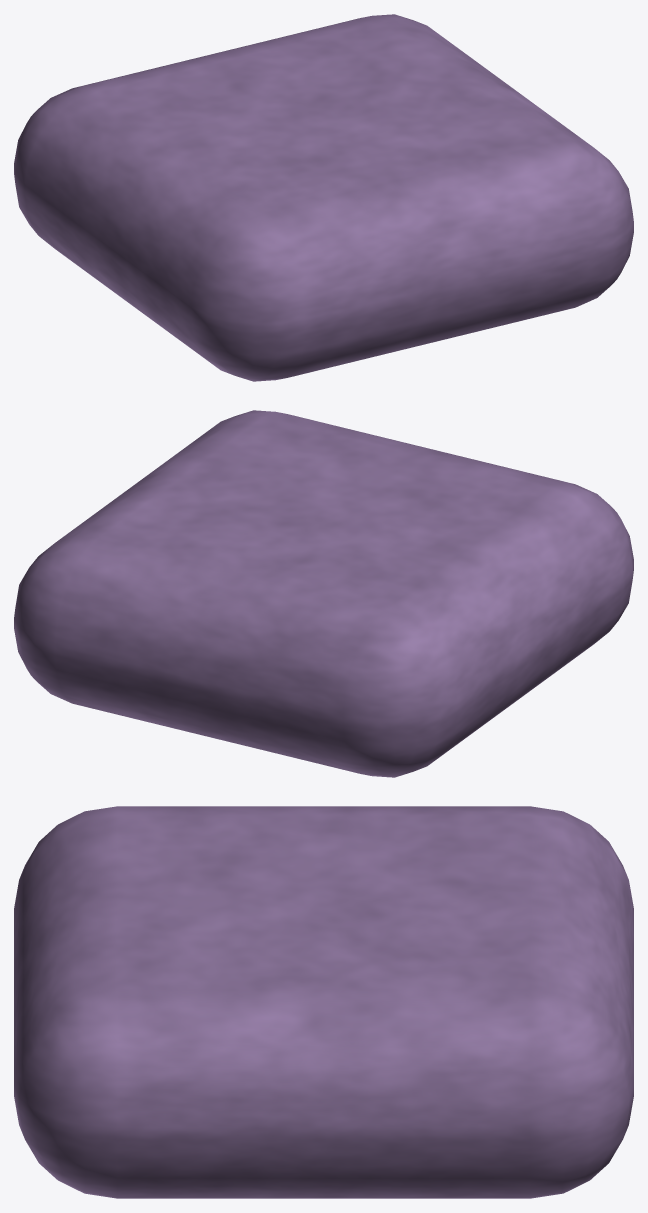
The model's file is Furn_DecorCushion.fbx.
3 renders of one model, top to bottom at view 1: azimuth 30°, elevation 25°; view 2: azimuth 150°, elevation 25°; view 3: azimuth 270°, elevation 25°, orthographic. The views are drawn at different scales.
Visible parts, largest first — view 1: Furn_DecorCushion_Mesh; view 2: Furn_DecorCushion_Mesh; view 3: Furn_DecorCushion_Mesh.
Part boxes in pixels (x1,y1,x2,y2): Furn_DecorCushion_Mesh: (14,14,633,381); Furn_DecorCushion_Mesh: (14,410,633,777); Furn_DecorCushion_Mesh: (14,806,633,1198).
Bounding box in the file's own units: 0.45 × 0.16 × 0.45.
Materials: 1 (1 with a texture image).
